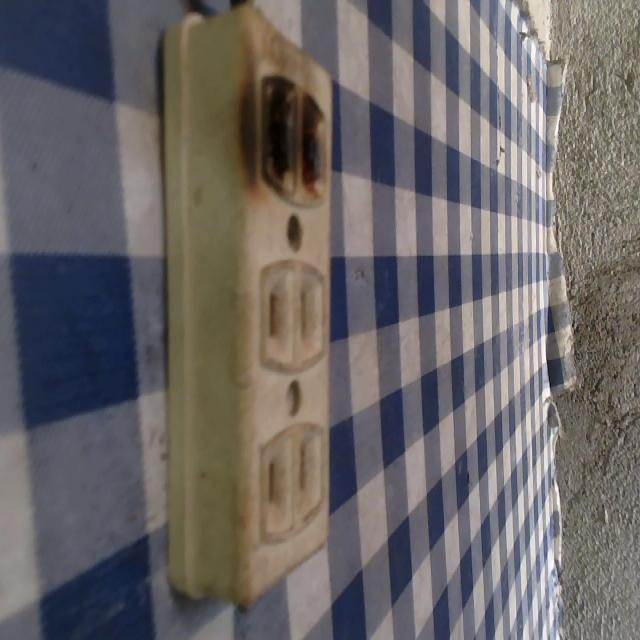-: (243, 63, 337, 213)
